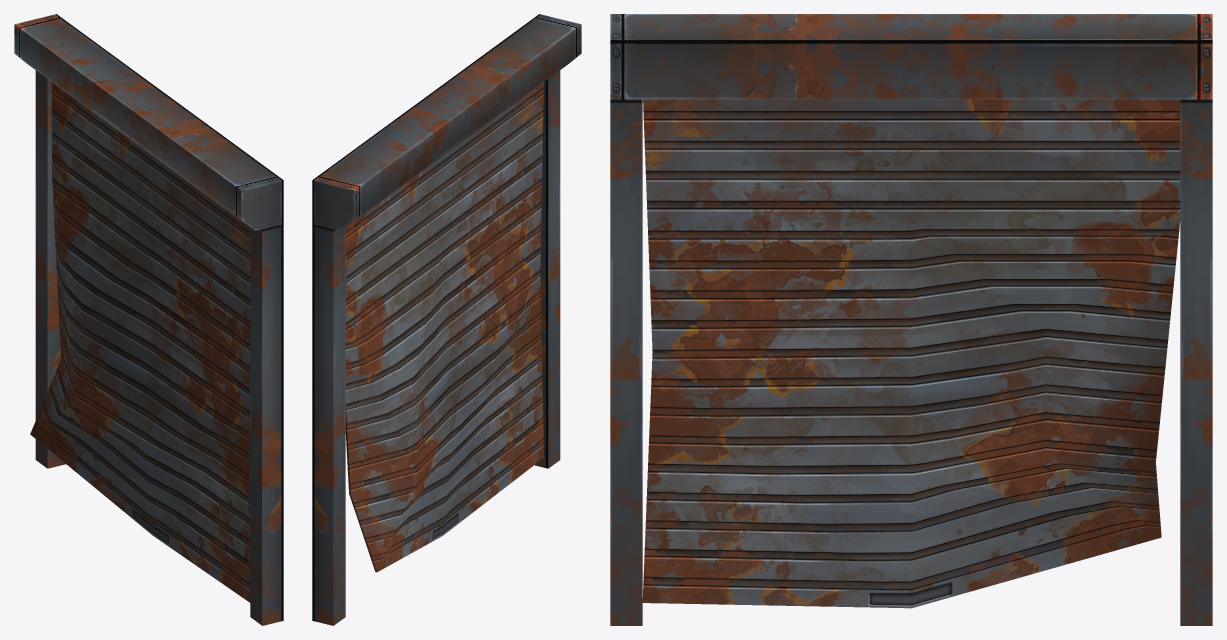
File: rollerShutter01_3m_B.fbx
The picture shows the model from 3 angles, left to right: view 1: azimuth 30°, elevation 25°; view 2: azimuth 150°, elevation 25°; view 3: azimuth 270°, elevation 25°; orthographic projection. The views are drawn at different scales.
Parts seen in each view (by area): view 1: rollerShutter01_3m_B; view 2: rollerShutter01_3m_B; view 3: rollerShutter01_3m_B.
Part boxes in pixels (x1,y1,x2,y2): rollerShutter01_3m_B: (14,14,283,625); rollerShutter01_3m_B: (312,14,581,625); rollerShutter01_3m_B: (610,14,1212,625).
Size of the model in its own units: 32.52 by 300 by 280.
